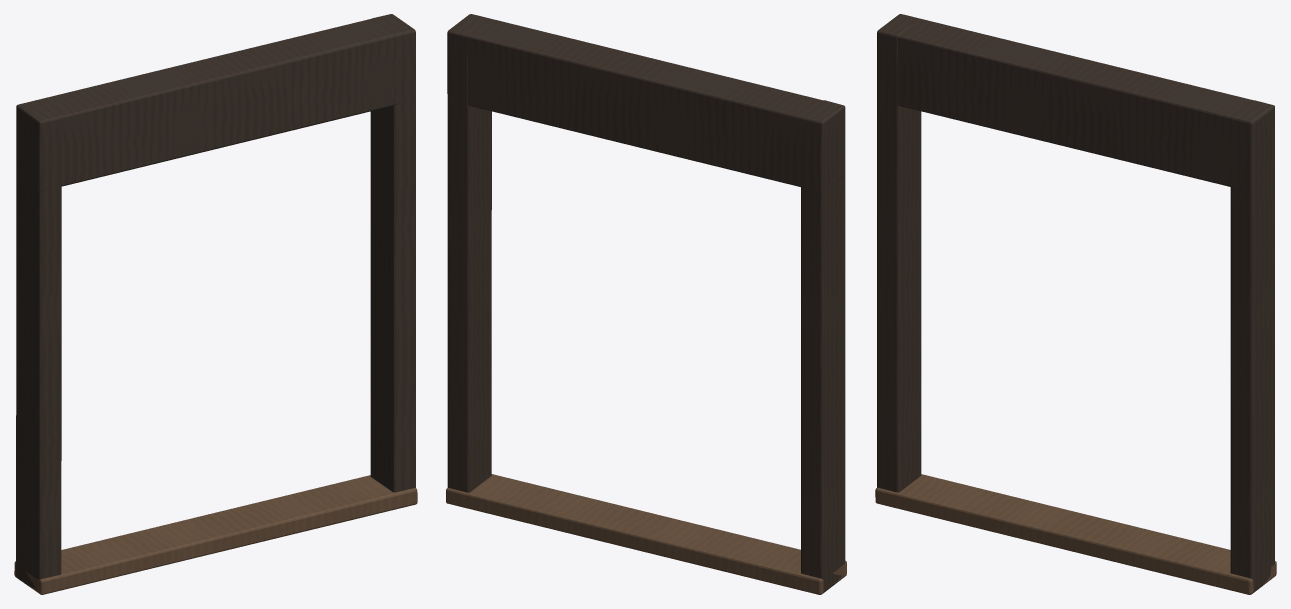
File: AR_DoorFrame_2m.glb
3 views of the same model, side by side, from view 1: azimuth 30°, elevation 25°; view 2: azimuth 150°, elevation 25°; view 3: azimuth 330°, elevation 25° (orthographic).
Visible parts, largest first — view 1: AR_DoorFrame_2m; view 2: AR_DoorFrame_2m; view 3: AR_DoorFrame_2m.
Part boxes in pixels (<box>): AR_DoorFrame_2m: <box>14,14,417,594</box>; AR_DoorFrame_2m: <box>446,14,846,594</box>; AR_DoorFrame_2m: <box>875,14,1276,594</box>.
Bounding box in the file's own units: 2 × 2.4 × 0.2531.
Materials: 2 (2 with a texture image).
